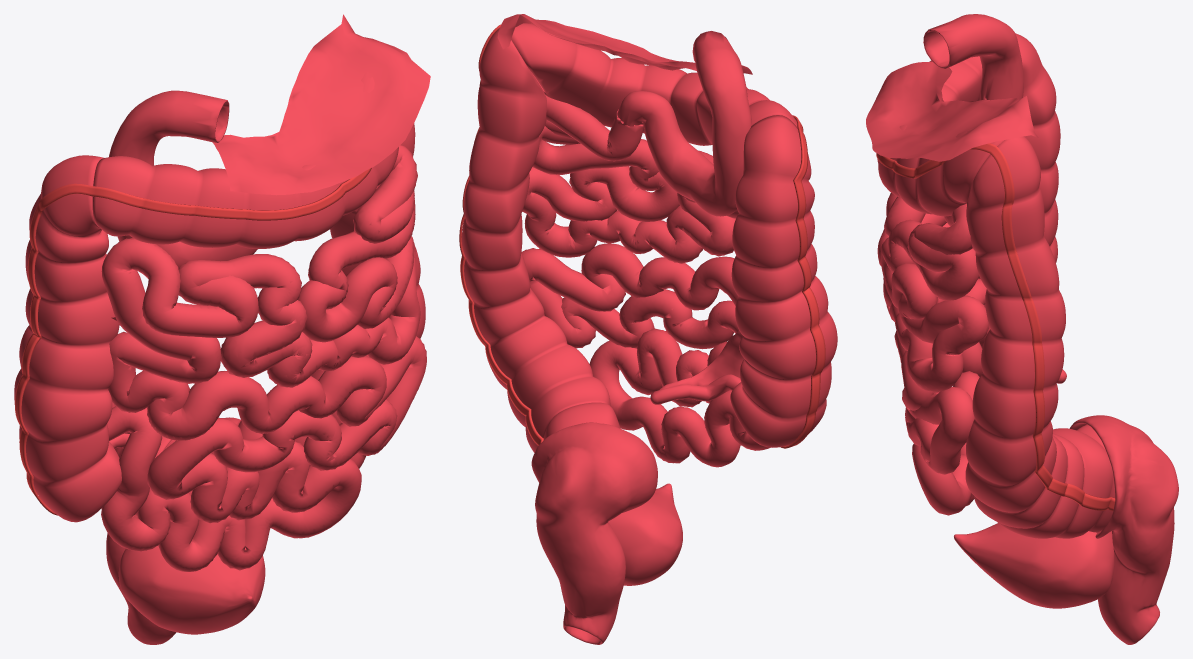
Rendered from Intestines_New.glb.
3 renders of one model, left to right at view 1: azimuth 30°, elevation 25°; view 2: azimuth 150°, elevation 25°; view 3: azimuth 270°, elevation 25°, orthographic. The views are drawn at different scales.
Visible parts, largest first — view 1: Jejunum, Ascending colon, Mesocolon, Transverse colon, Urinary bladder, Duodenum, Mesocolic taenia, Descending colon, Sigmoid colon; view 2: Jejunum, Descending colon, Ascending colon, Sigmoid colon, Duodenum, Transverse colon, Mesocolic taenia, Urinary bladder, Mesocolon, Meso-appendix, Vermiform appendix; view 3: Descending colon, Jejunum, Sigmoid colon, Mesocolon, Urinary bladder, Transverse colon, Duodenum, Mesocolic taenia, Ascending colon.
Part boxes in pixels (x1=…): Jejunum: x1=101, y1=145, x2=426, y2=571; Ascending colon: x1=14, y1=155, x2=121, y2=522; Mesocolon: x1=212, y1=14, x2=430, y2=195; Transverse colon: x1=92, y1=71, x2=398, y2=249; Urinary bladder: x1=118, y1=545, x2=265, y2=634; Duodenum: x1=109, y1=90, x2=257, y2=268; Mesocolic taenia: x1=14, y1=168, x2=371, y2=515; Descending colon: x1=164, y1=123, x2=425, y2=494; Sigmoid colon: x1=106, y1=436, x2=176, y2=644; Jejunum: x1=521, y1=95, x2=770, y2=467; Descending colon: x1=462, y1=28, x2=620, y2=452; Ascending colon: x1=730, y1=115, x2=837, y2=447; Sigmoid colon: x1=531, y1=422, x2=657, y2=644; Duodenum: x1=617, y1=31, x2=751, y2=216; Transverse colon: x1=511, y1=23, x2=797, y2=145; Mesocolic taenia: x1=459, y1=24, x2=825, y2=448; Urinary bladder: x1=608, y1=483, x2=682, y2=585; Mesocolon: x1=497, y1=14, x2=752, y2=74; Meso-appendix: x1=659, y1=331, x2=744, y2=390; Vermiform appendix: x1=650, y1=374, x2=740, y2=404; Descending colon: x1=965, y1=136, x2=1115, y2=538; Jejunum: x1=877, y1=193, x2=989, y2=515; Sigmoid colon: x1=1070, y1=415, x2=1178, y2=644; Mesocolon: x1=866, y1=62, x2=1038, y2=161; Urinary bladder: x1=954, y1=523, x2=1114, y2=608; Transverse colon: x1=877, y1=56, x2=1003, y2=216; Duodenum: x1=923, y1=14, x2=1023, y2=100; Mesocolic taenia: x1=876, y1=143, x2=1115, y2=511; Ascending colon: x1=978, y1=33, x2=1060, y2=348.
Bounding box in the file's own units: 0.2496 × 0.3757 × 0.1751.
